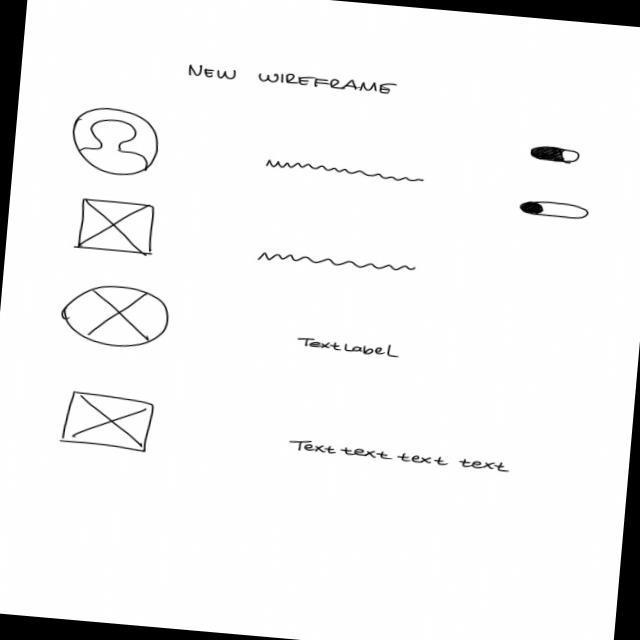image: (58, 281, 173, 352), (69, 105, 166, 180), (57, 389, 157, 456), (74, 196, 160, 259)
label: (287, 437, 513, 475), (185, 62, 401, 97), (295, 336, 404, 361)
text: (263, 158, 428, 186), (255, 250, 418, 276)
toggle: (519, 197, 591, 223), (528, 144, 583, 166)
